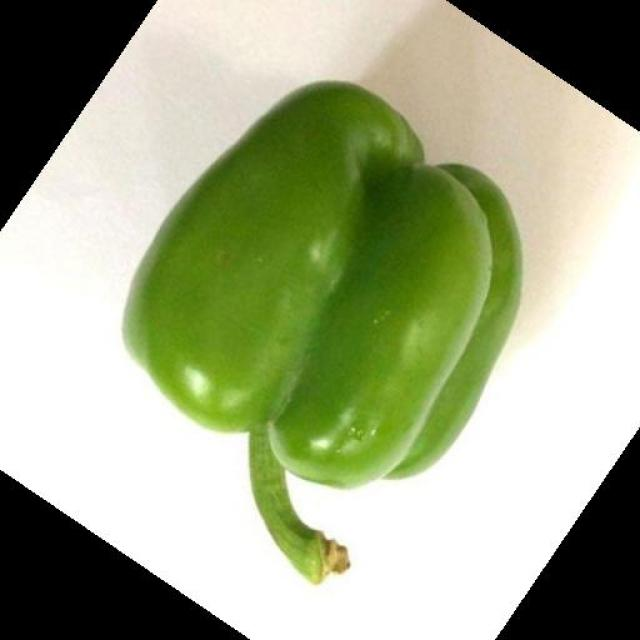Fresh_Capsicum: (158, 82, 534, 582)
